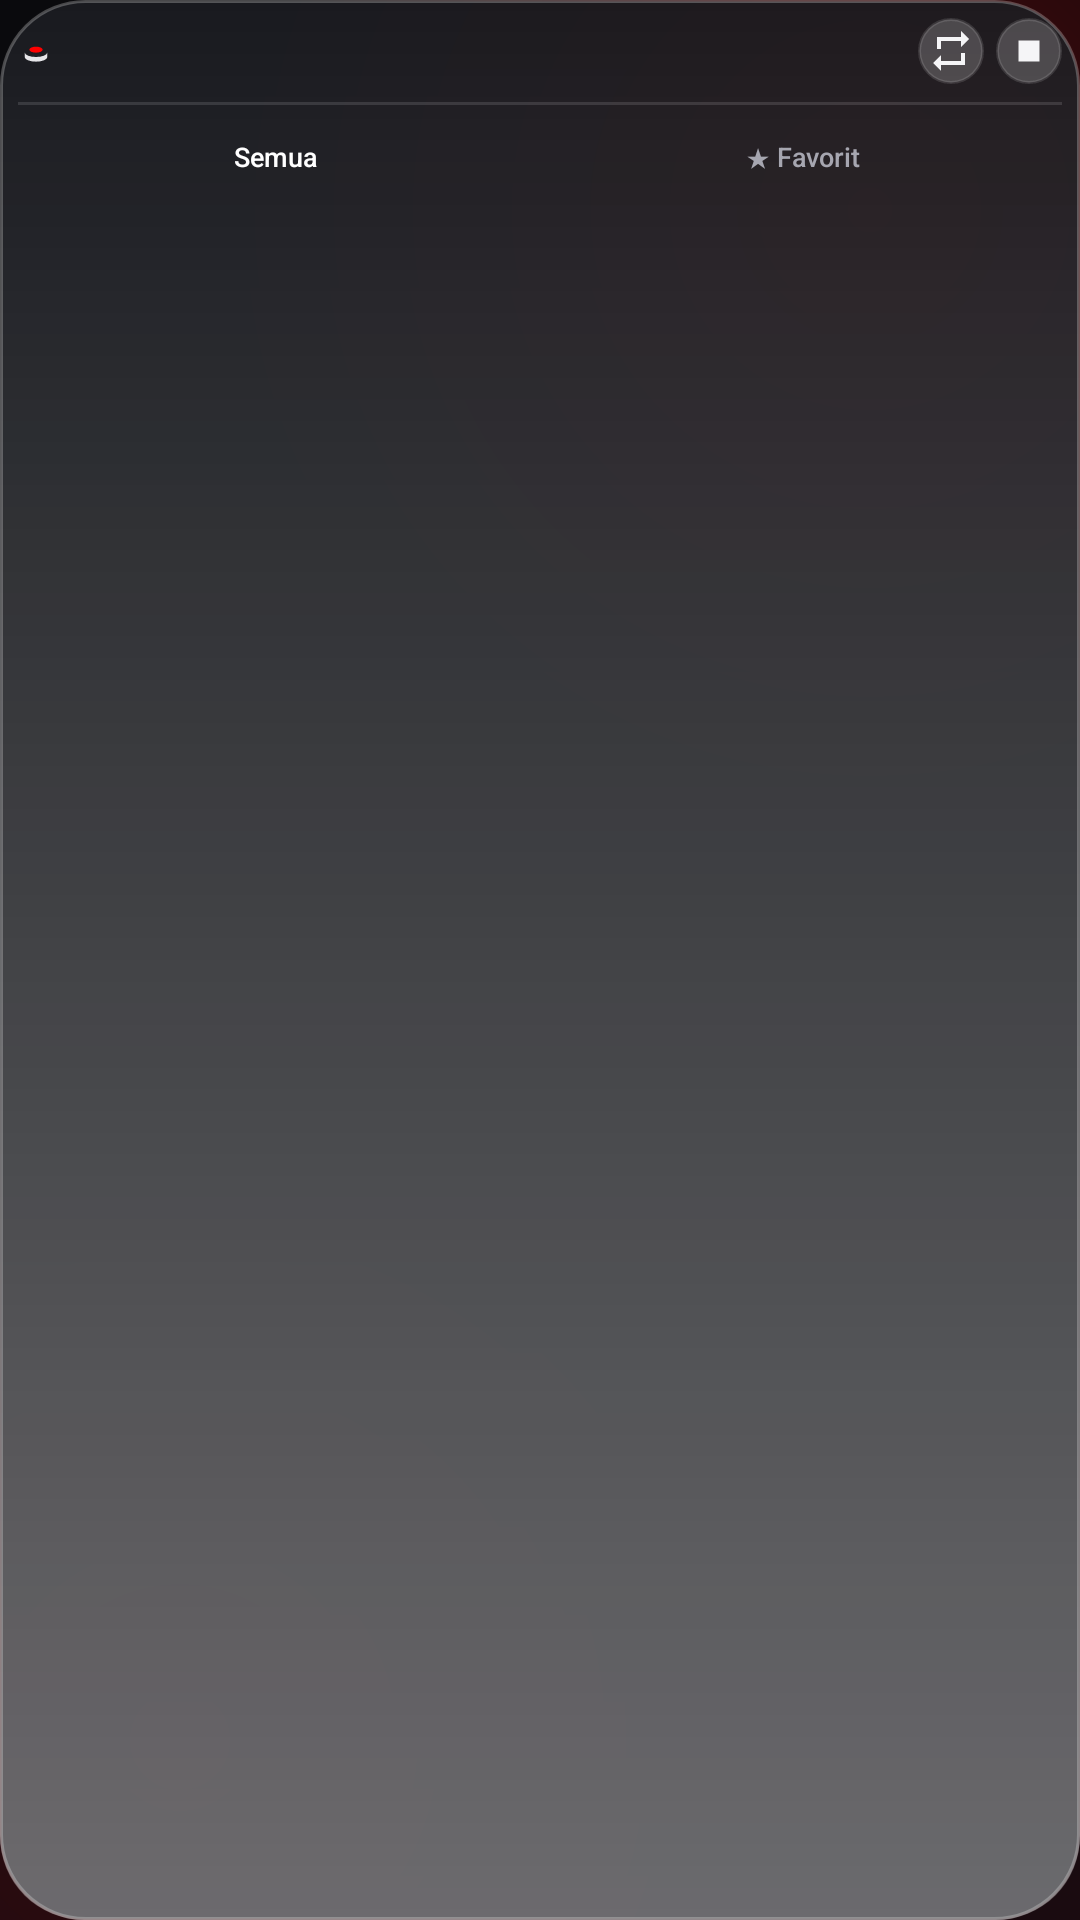

Screen size 1080×1920. Icon name, then its box in pixels as [x1=x1, y1=y1, x2=x2, y2=y2]:
Hentikan Sound: [x1=996, y1=18, x2=1062, y2=84]
Ulangi Sound Terus Menerus: [x1=918, y1=18, x2=984, y2=84]
